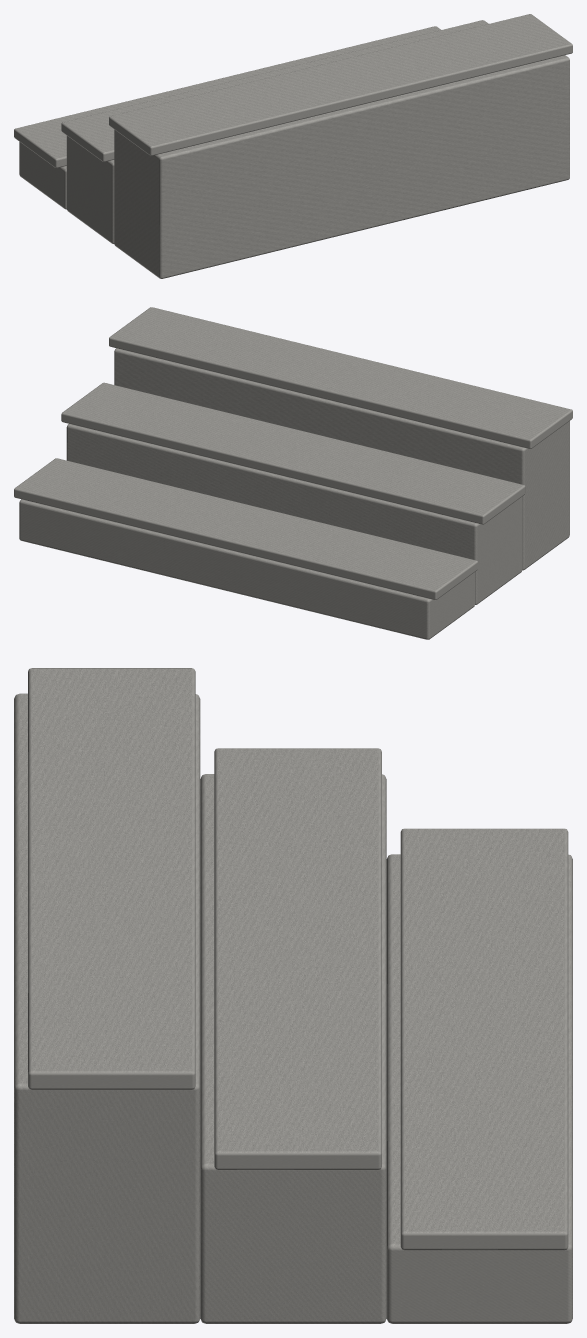
File: tactical-shooter-hill-town-stone-step-block-d7ca9ab2__27523.glb
The picture shows the model from 3 angles, top to bottom: view 1: azimuth 30°, elevation 25°; view 2: azimuth 150°, elevation 25°; view 3: azimuth 270°, elevation 25°; orthographic projection. The views are drawn at different scales.
Visible parts, largest first — view 1: stone-step-block; view 2: stone-step-block; view 3: stone-step-block.
Boxes of the visible parts, x1,y1,x2,y2 form: stone-step-block: (14,14,572,278); stone-step-block: (14,307,572,639); stone-step-block: (14,668,572,1323).
Size of the model in its own units: 2.06 by 0.6149 by 1.2.
Materials: 1 (1 with a texture image).
